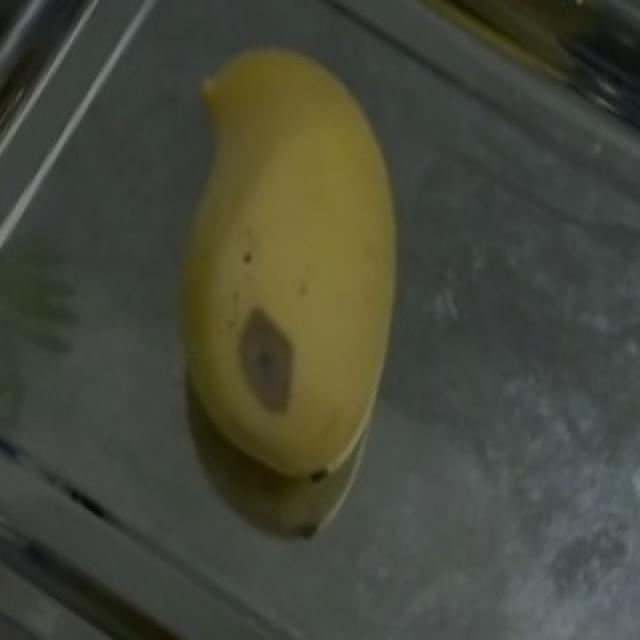fruit: (130, 8, 490, 424)
